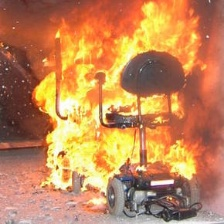fire: (30, 2, 200, 207)
